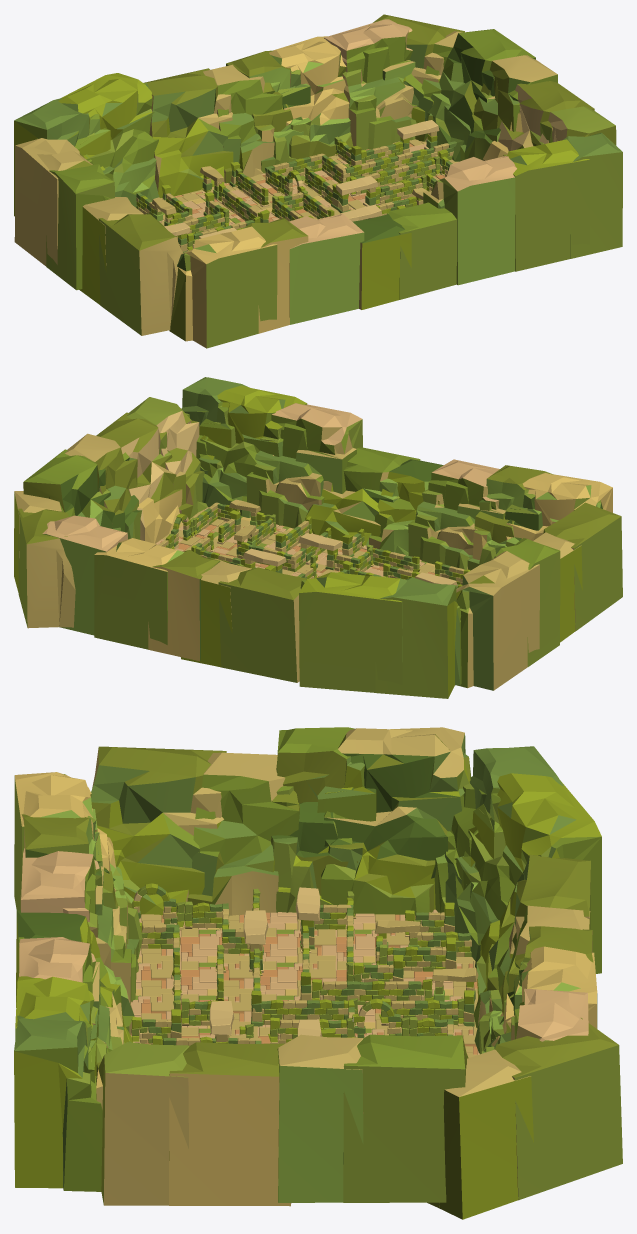
Rendered from props enviro hills.fbx.
The picture shows the model from 3 angles, top to bottom: view 1: azimuth 30°, elevation 25°; view 2: azimuth 150°, elevation 25°; view 3: azimuth 270°, elevation 25°; orthographic projection. The views are drawn at different scales.
Visible parts, largest first — view 1: Cube.016, Cube.015, Cube.205, Cube.020, Cube.153, Cube.204, Cube.019, Cube.017, Cube.012, Cube.021, Cube.018, Cube.013 (+6 smaller); view 2: Cube.153, Cube.019, Cube.204, Cube.205, Cube.021, Cube.014, Cube.016, Cube.012, Cube.015, Cube.017, Cube.020, Cube.206 (+5 smaller); view 3: Cube.019, Cube.014, Cube.017, Cube.020, Cube.206, Cube.153, Cube, Cube.016, Cube.015, Cube.205, Cube.013, Cube.204 (+16 smaller).
Part boxes in pixels (bbox=[...]): Cube.016: bbox=[507, 132, 622, 271]; Cube.015: bbox=[169, 218, 308, 348]; Cube.205: bbox=[144, 64, 282, 197]; Cube.020: bbox=[79, 197, 182, 335]; Cube.153: bbox=[14, 73, 159, 216]; Cube.204: bbox=[226, 36, 352, 173]; Cube.019: bbox=[14, 138, 114, 290]; Cube.017: bbox=[427, 29, 557, 161]; Cube.012: bbox=[352, 202, 456, 309]; Cube.021: bbox=[423, 155, 516, 285]; Cube.018: bbox=[324, 19, 416, 150]; Cube.013: bbox=[289, 213, 364, 324]; Cube.153: bbox=[299, 572, 461, 698]; Cube.019: bbox=[456, 538, 560, 690]; Cube.204: bbox=[94, 538, 220, 661]; Cube.205: bbox=[181, 558, 308, 682]; Cube.021: bbox=[246, 403, 362, 528]; Cube.014: bbox=[96, 397, 207, 543]; Cube.016: bbox=[181, 377, 307, 517]; Cube.012: bbox=[305, 447, 443, 555]; Cube.015: bbox=[467, 465, 612, 570]; Cube.017: bbox=[23, 433, 141, 539]; Cube.020: bbox=[533, 502, 622, 642]; Cube.206: bbox=[14, 491, 75, 628]; Cube.019: bbox=[271, 727, 471, 915]; Cube.014: bbox=[96, 1042, 291, 1206]; Cube.017: bbox=[277, 1034, 468, 1202]; Cube.020: bbox=[91, 746, 299, 915]; Cube.206: bbox=[427, 1018, 622, 1219]; Cube.153: bbox=[431, 746, 601, 973]; Cube: bbox=[130, 909, 479, 1057]; Cube.016: bbox=[14, 976, 112, 1191]; Cube.015: bbox=[14, 772, 142, 959]; Cube.205: bbox=[473, 854, 590, 1028]; Cube.013: bbox=[21, 848, 138, 1003]; Cube.204: bbox=[474, 926, 597, 1054].
Size of the model in its own units: 8429 by 1800 by 6258.
Materials: 1 (1 with a texture image).
